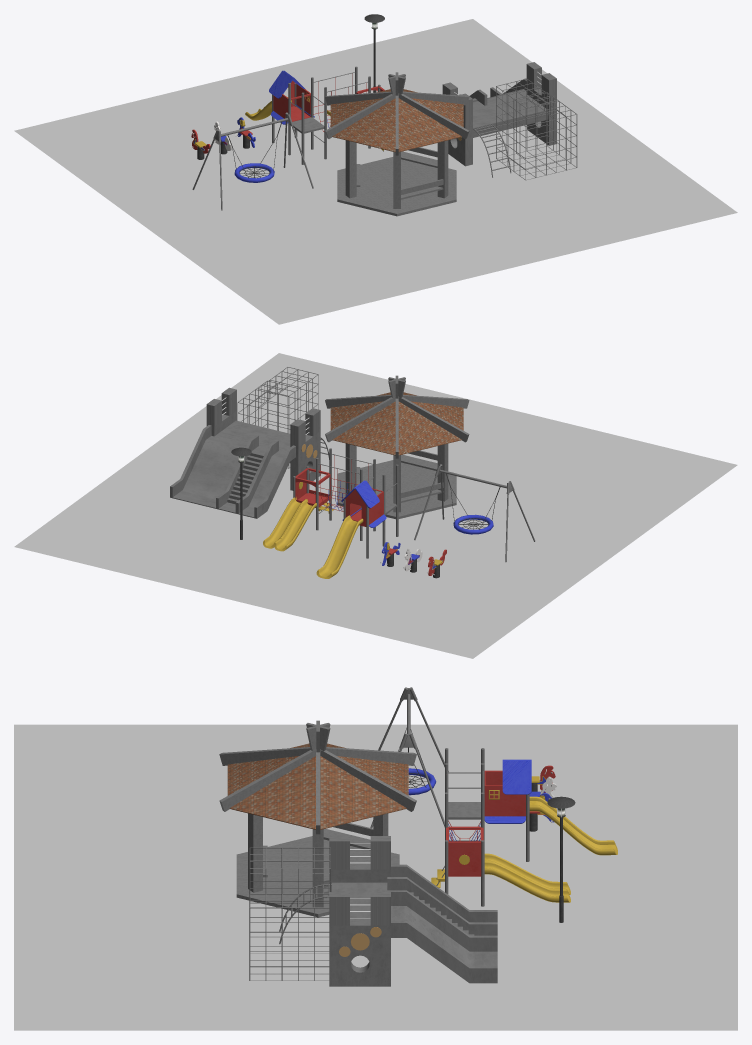
3 renders of one model, top to bottom at view 1: azimuth 30°, elevation 25°; view 2: azimuth 150°, elevation 25°; view 3: azimuth 270°, elevation 25°, orthographic. The views are drawn at different scales.
Visible parts, largest first — view 1: Plane, rest_2, slider_2, Slider02, Dount; view 2: Plane, slider_2, rest_2, Slider02, Dount; view 3: Plane, rest_2, slider_2, Slider02, Dount, Lamp.
Part boxes in pixels (bbox=[...]): Plane: bbox=[14, 19, 737, 324]; rest_2: bbox=[325, 72, 469, 216]; slider_2: bbox=[442, 62, 577, 180]; Slider02: bbox=[245, 66, 384, 164]; Dount: bbox=[192, 112, 313, 210]; Plane: bbox=[14, 353, 737, 658]; slider_2: bbox=[170, 367, 329, 518]; rest_2: bbox=[325, 375, 469, 519]; Slider02: bbox=[263, 448, 398, 578]; Dount: bbox=[414, 464, 535, 562]; Plane: bbox=[14, 724, 737, 1030]; rest_2: bbox=[219, 720, 416, 917]; slider_2: bbox=[249, 836, 497, 986]; Slider02: bbox=[431, 748, 617, 906]; Dount: bbox=[370, 687, 448, 828]; Lamp: bbox=[547, 796, 575, 922].
Size of the model in its own units: 2000 by 465 by 2000.
